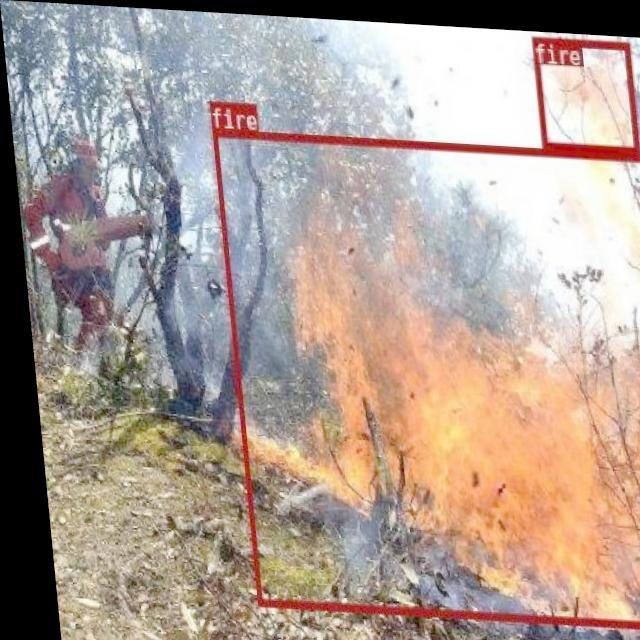Fire: (219, 126, 640, 616), (537, 25, 640, 140)
Smoke: (78, 4, 570, 625)
